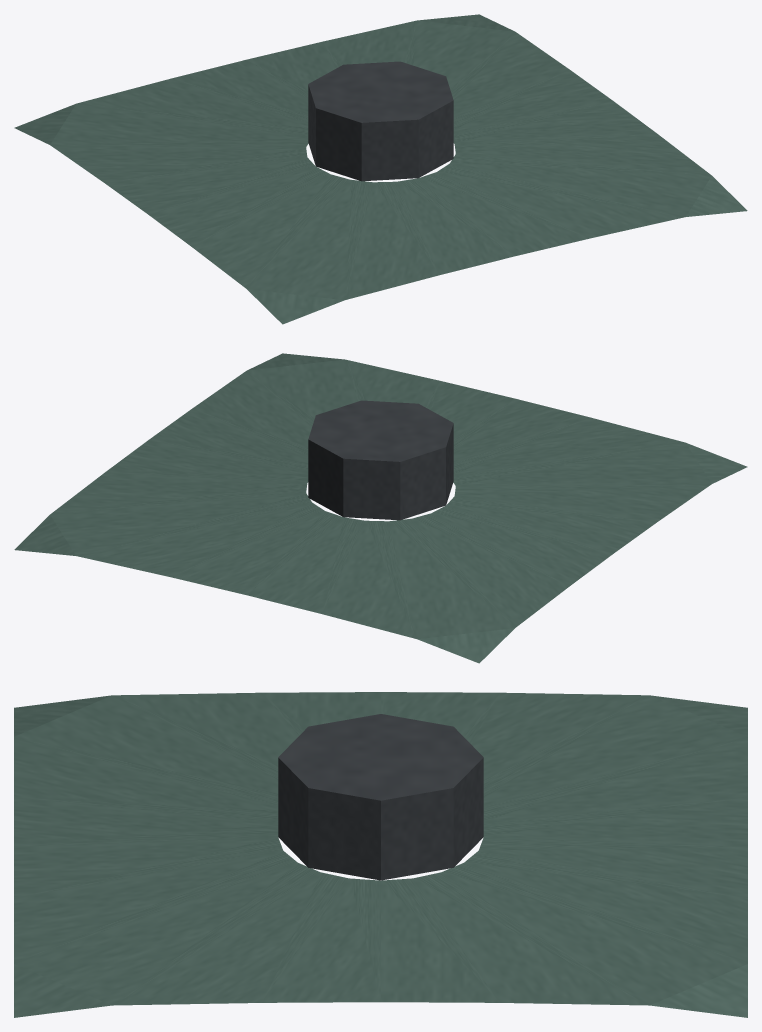
The model's file is cell_237.obj.
3 renders of one model, top to bottom at view 1: azimuth 30°, elevation 25°; view 2: azimuth 150°, elevation 25°; view 3: azimuth 270°, elevation 25°, orthographic. The views are drawn at different scales.
Size of the model in its own units: 1 by 0.1587 by 1.
